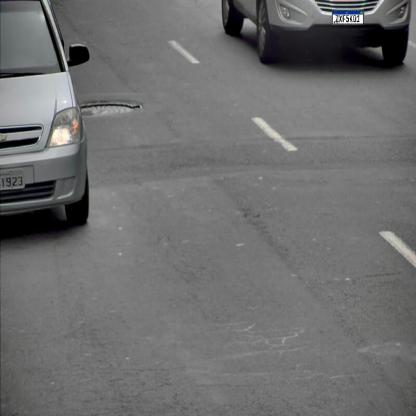PlacaM: (332, 11, 364, 24)
